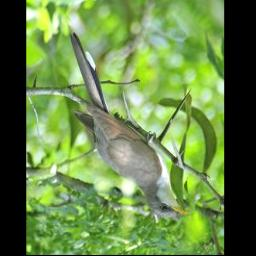Cuckoo: (69, 33, 191, 219)
